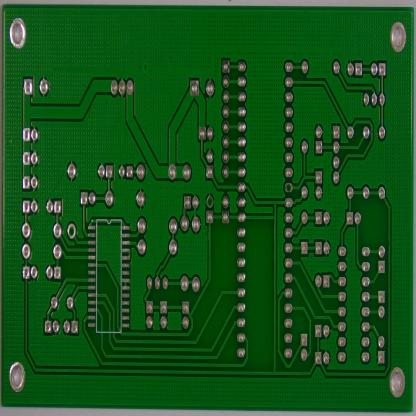missing_hole: (66, 221, 77, 240), (284, 179, 294, 197), (206, 192, 214, 210)
